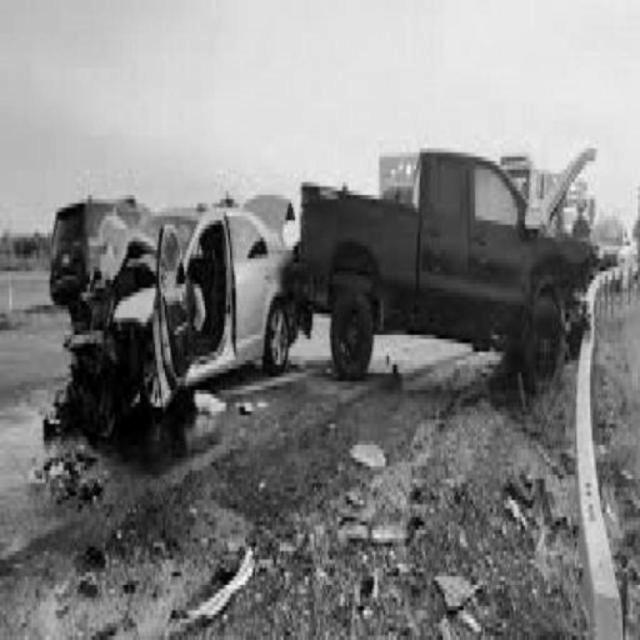accident: (75, 151, 596, 381)
vehicle: (51, 198, 134, 314)
